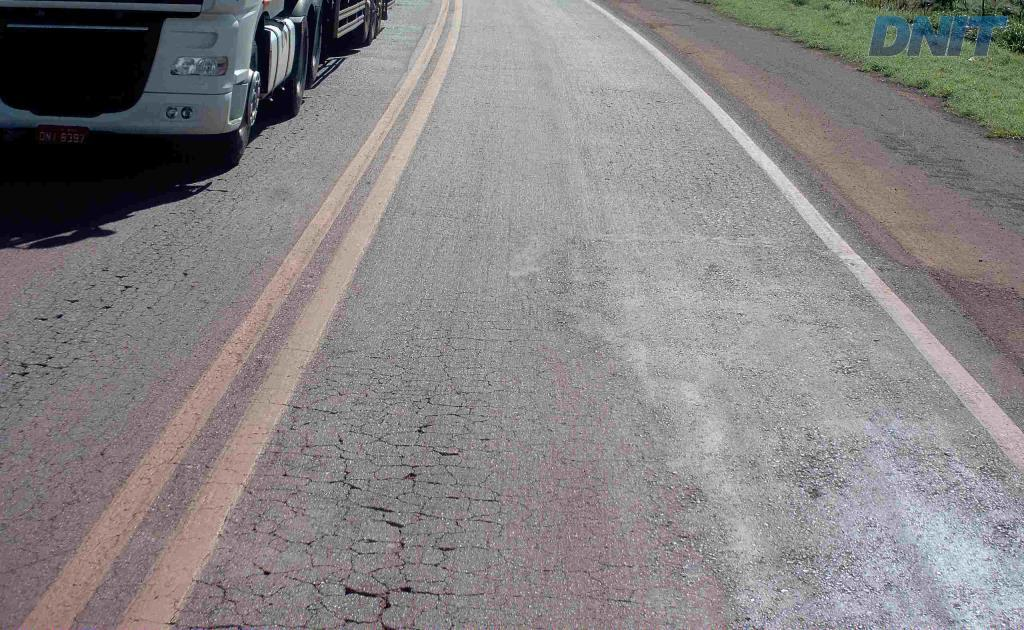crack: (322, 534, 433, 597), (324, 464, 405, 536)
